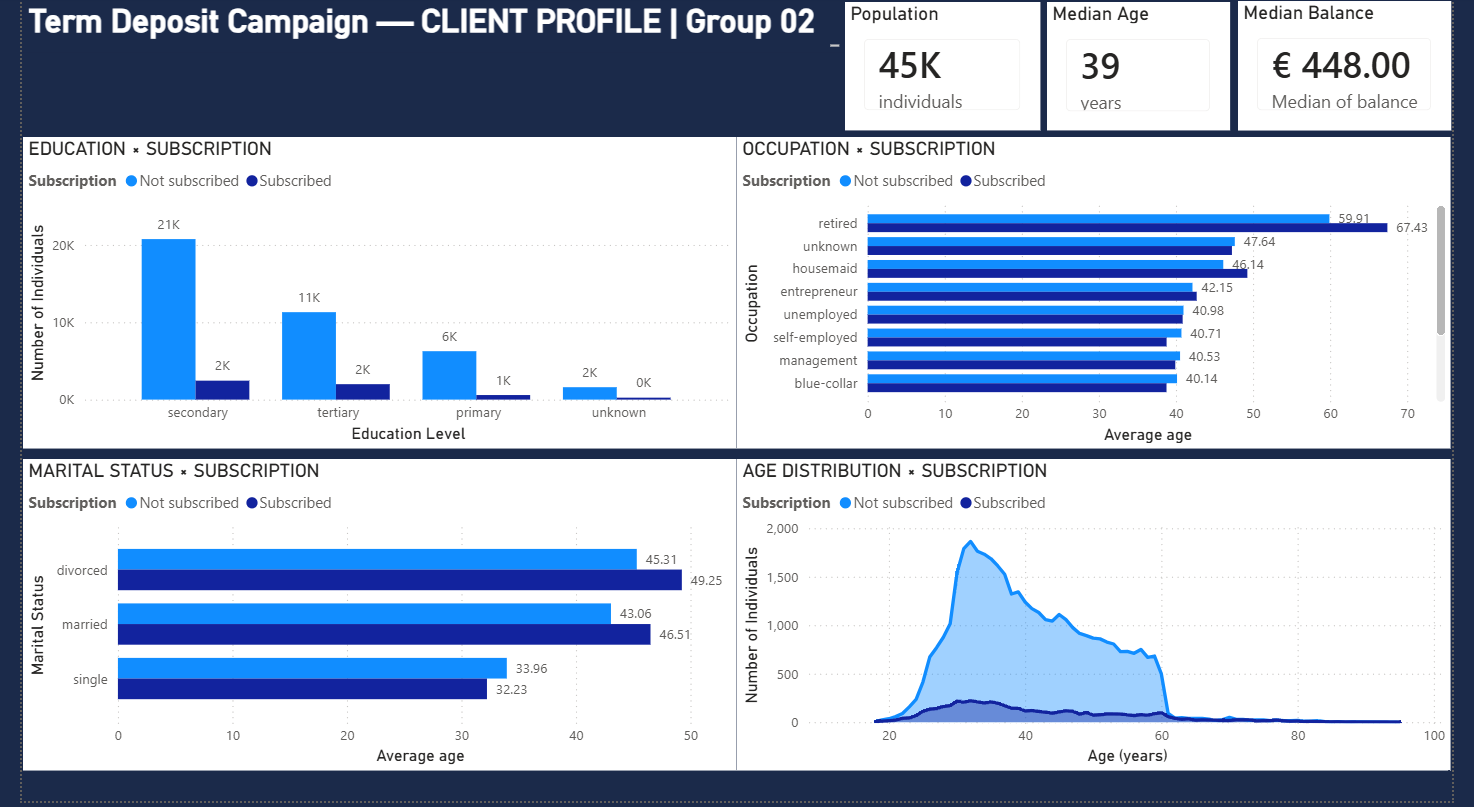

The dashboard page shown, as its layout file describes it:
{"tool":"powerbi","page":{"name":" Page 1","canvas":[1280,720],"ordinal":0},"visuals":[{"type":"textbox","title":"Term Deposit Campaign — CLIENT PROFILE | Group 02","box":[0.9,4.5,736.1,44.8],"z":0},{"type":"clusteredColumnChart","title":"EDUCATION × SUBSCRIPTION","fields":{"Category":["bank-full.education"],"Series":["bank-full.Subscription"],"Y":["CountNonNull(bank-full.age)"]},"box":[0.9,125.4,639.4,278.5],"z":1000},{"type":"clusteredBarChart","title":"OCCUPATION × SUBSCRIPTION","fields":{"Category":["bank-full.job"],"Series":["bank-full.Subscription"],"Y":["Avg(bank-full.age)"]},"box":[640.3,125.4,639.4,279.4],"z":2000},{"type":"cardVisual","title":"Population","fields":{"Data":["bank-full.Population"]},"box":[737,4.5,174.6,114.6],"z":3000},{"type":"cardVisual","title":"Median Age","fields":{"Data":["Median(bank-full.age)"]},"box":[917.9,4.5,163.9,115],"z":4000},{"type":"cardVisual","title":"Median Balance","fields":{"Data":["Median(bank-full.balance)"]},"box":[1089,3.6,190.7,115.5],"z":5000},{"type":"clusteredBarChart","title":"MARITAL STATUS × SUBSCRIPTION","fields":{"Category":["bank-full.marital"],"Series":["bank-full.Subscription"],"Y":["Avg(bank-full.age)"]},"box":[1,414,639,279],"z":6000},{"type":"areaChart","title":"AGE DISTRIBUTION × SUBSCRIPTION","fields":{"Category":["bank-full.age"],"Series":["bank-full.Subscription"],"Y":["CountNonNull(bank-full.age)"]},"box":[640,414,639,279],"z":7000}]}

Visuals, with their boxes in screenshot pixels (x1, y1, x2, y2), scaled from the page's 1280x720 canvas onto the 1474x807 screenshot:
"Term Deposit Campaign — CLIENT PROFILE | Group 02" textbox: [1,5,849,55]
"EDUCATION × SUBSCRIPTION" clusteredColumnChart: [1,141,737,453]
"OCCUPATION × SUBSCRIPTION" clusteredBarChart: [737,141,1473,454]
"Population" cardVisual: [849,5,1050,133]
"Median Age" cardVisual: [1057,5,1246,134]
"Median Balance" cardVisual: [1254,4,1473,133]
"MARITAL STATUS × SUBSCRIPTION" clusteredBarChart: [1,464,737,777]
"AGE DISTRIBUTION × SUBSCRIPTION" areaChart: [737,464,1473,777]
